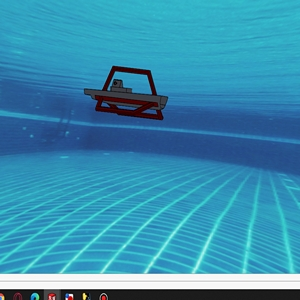submarine: (84, 60, 164, 124)
